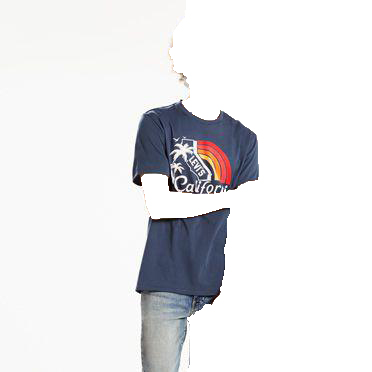teeshirt: (127, 100, 269, 309)
